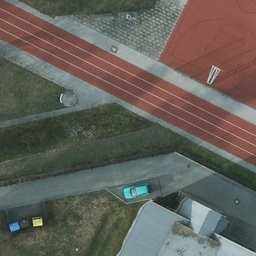car: (122, 182, 152, 199)
